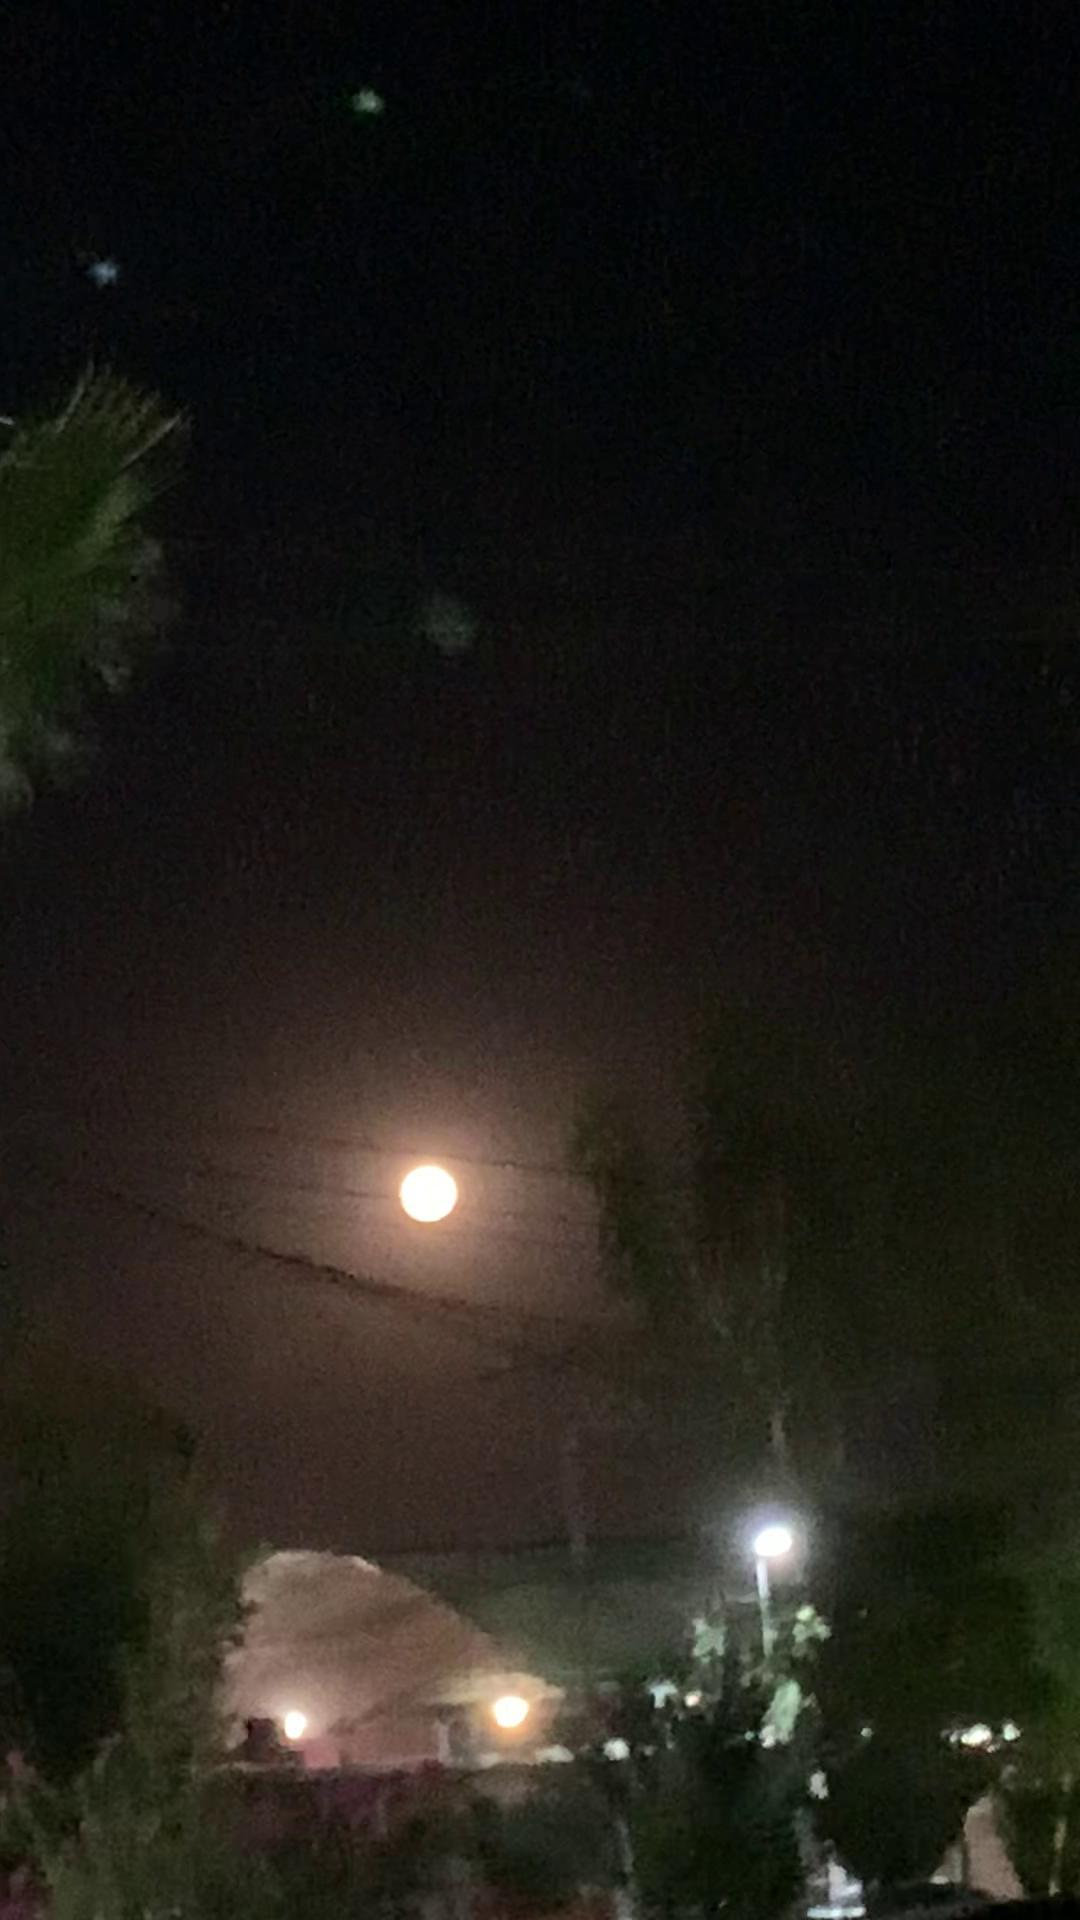moon: (368, 1147, 476, 1242)
